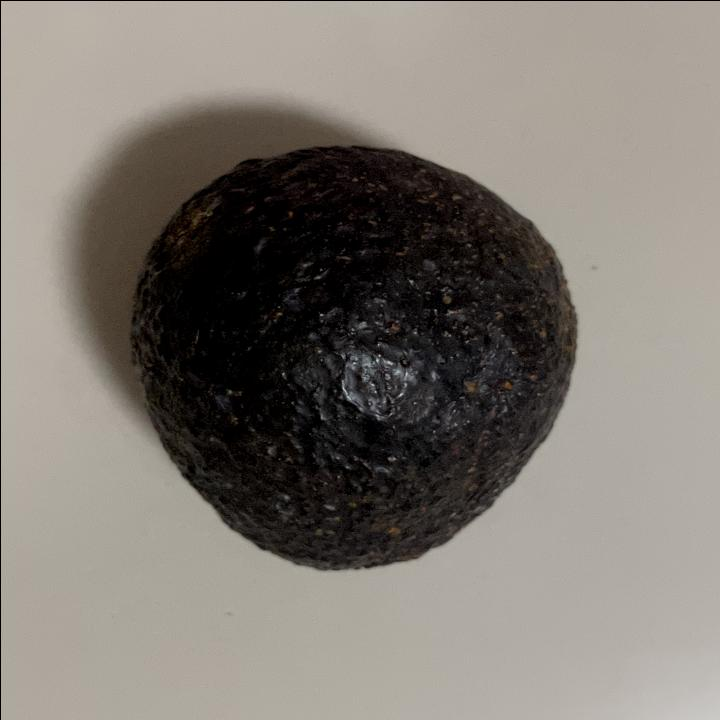Level3: (119, 136, 591, 580)
